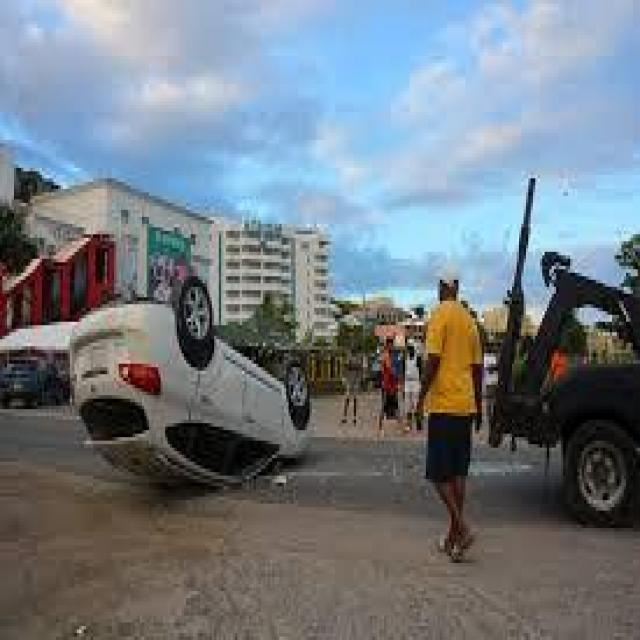accident: (63, 271, 319, 502)
